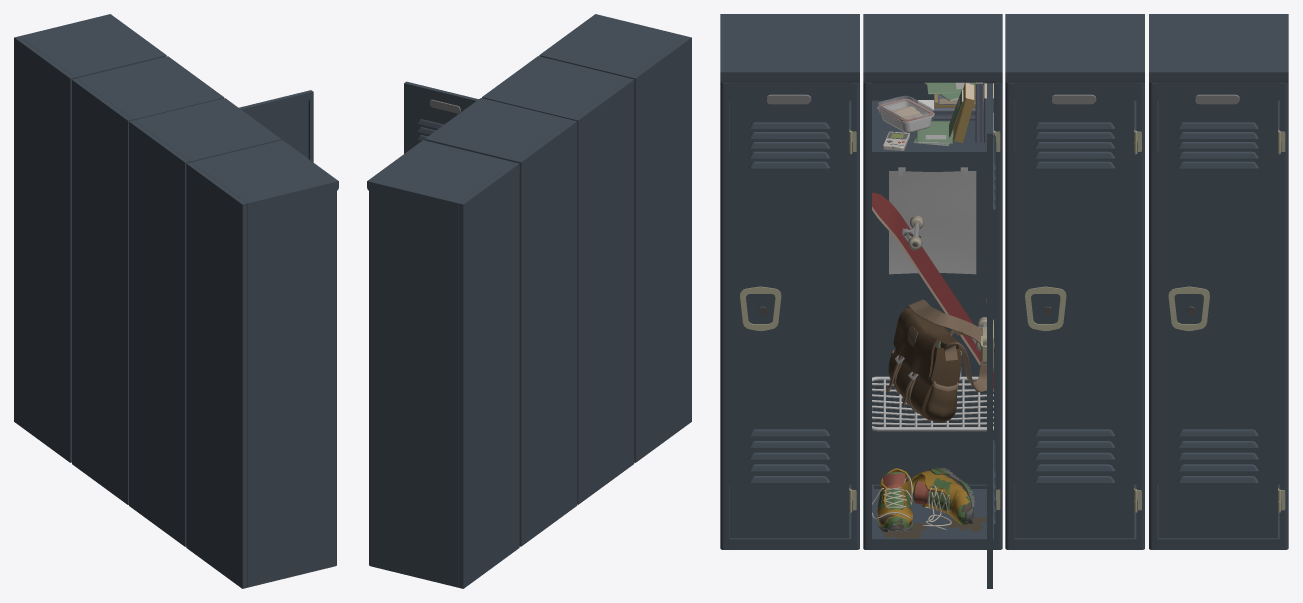
Rendered from Test_Shkaf.fbx.
3 views of the same model, side by side, from view 1: azimuth 30°, elevation 25°; view 2: azimuth 150°, elevation 25°; view 3: azimuth 270°, elevation 25° (orthographic). The views are drawn at different scales.
Visible parts, largest first — view 1: pCube69 (×3), pCube67, pCube7, pCube68 (×3), pCube6, pCube46; view 2: pCube69 (×3), pCube67, pCube7, pCube68 (×3), pCube6, pCube46; view 3: pCube71 (×3), pCube67 (×3), pCube68 (×3), pCube7, pCube4, pCube6, pCube81, pCube69 (×3), Bag10, pCube46, pCube9, Skate1 (+8 smaller).
Part boxes in pixels (bbox=[...]): pCube69 (×3): bbox=[14, 36, 247, 588]; pCube67: bbox=[247, 190, 336, 587]; pCube7: bbox=[129, 120, 189, 546]; pCube68 (×3): bbox=[19, 14, 338, 212]; pCube6: bbox=[134, 98, 281, 162]; pCube46: bbox=[239, 90, 313, 162]; pCube69 (×3): bbox=[458, 36, 691, 588]; pCube67: bbox=[369, 190, 458, 587]; pCube7: bbox=[573, 78, 634, 504]; pCube68 (×3): bbox=[367, 14, 686, 212]; pCube6: bbox=[482, 56, 628, 120]; pCube46: bbox=[404, 81, 478, 153]; pCube71 (×3): bbox=[729, 82, 1277, 538]; pCube67 (×3): bbox=[720, 82, 1288, 549]; pCube68 (×3): bbox=[720, 17, 1288, 82]; pCube7: bbox=[863, 14, 1002, 484]; pCube4: bbox=[863, 82, 1002, 549]; pCube6: bbox=[863, 17, 1002, 82]; pCube81: bbox=[889, 171, 976, 274]; pCube69 (×3): bbox=[720, 14, 1288, 484]; Bag10: bbox=[888, 308, 961, 419]; pCube46: bbox=[981, 83, 995, 588]; pCube9: bbox=[872, 100, 986, 162]; Skate1: bbox=[872, 192, 993, 391].
Size of the model in its own units: 7.27 by 14.98 by 16.13.
